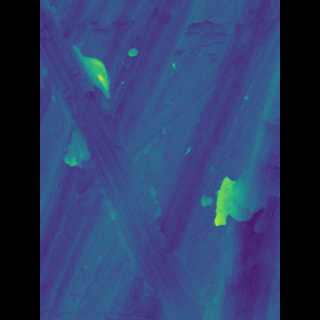Loch: (70, 0, 195, 320)
